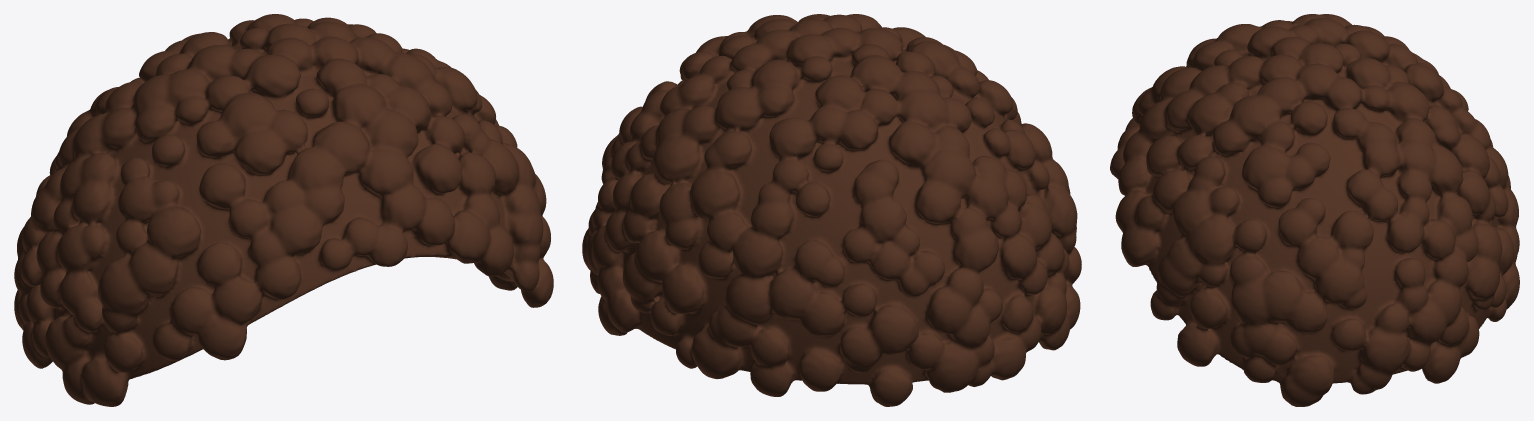
The model's file is Masculine-afro-hair.glb.
3 renders of one model, left to right at view 1: azimuth 30°, elevation 25°; view 2: azimuth 150°, elevation 25°; view 3: azimuth 270°, elevation 25°, orthographic. The views are drawn at different scales.
Parts seen in each view (by area): view 1: 226 hair / Hair / dense coiled texture235; view 2: 226 hair / Hair / dense coiled texture235; view 3: 226 hair / Hair / dense coiled texture235.
Part boxes in pixels (box(x1,y1,x2,y2)): 226 hair / Hair / dense coiled texture235: box(14, 14, 553, 406); 226 hair / Hair / dense coiled texture235: box(582, 14, 1081, 406); 226 hair / Hair / dense coiled texture235: box(1110, 14, 1519, 406).
Bounding box in the file's own units: 1.19 × 0.7278 × 0.9929.
